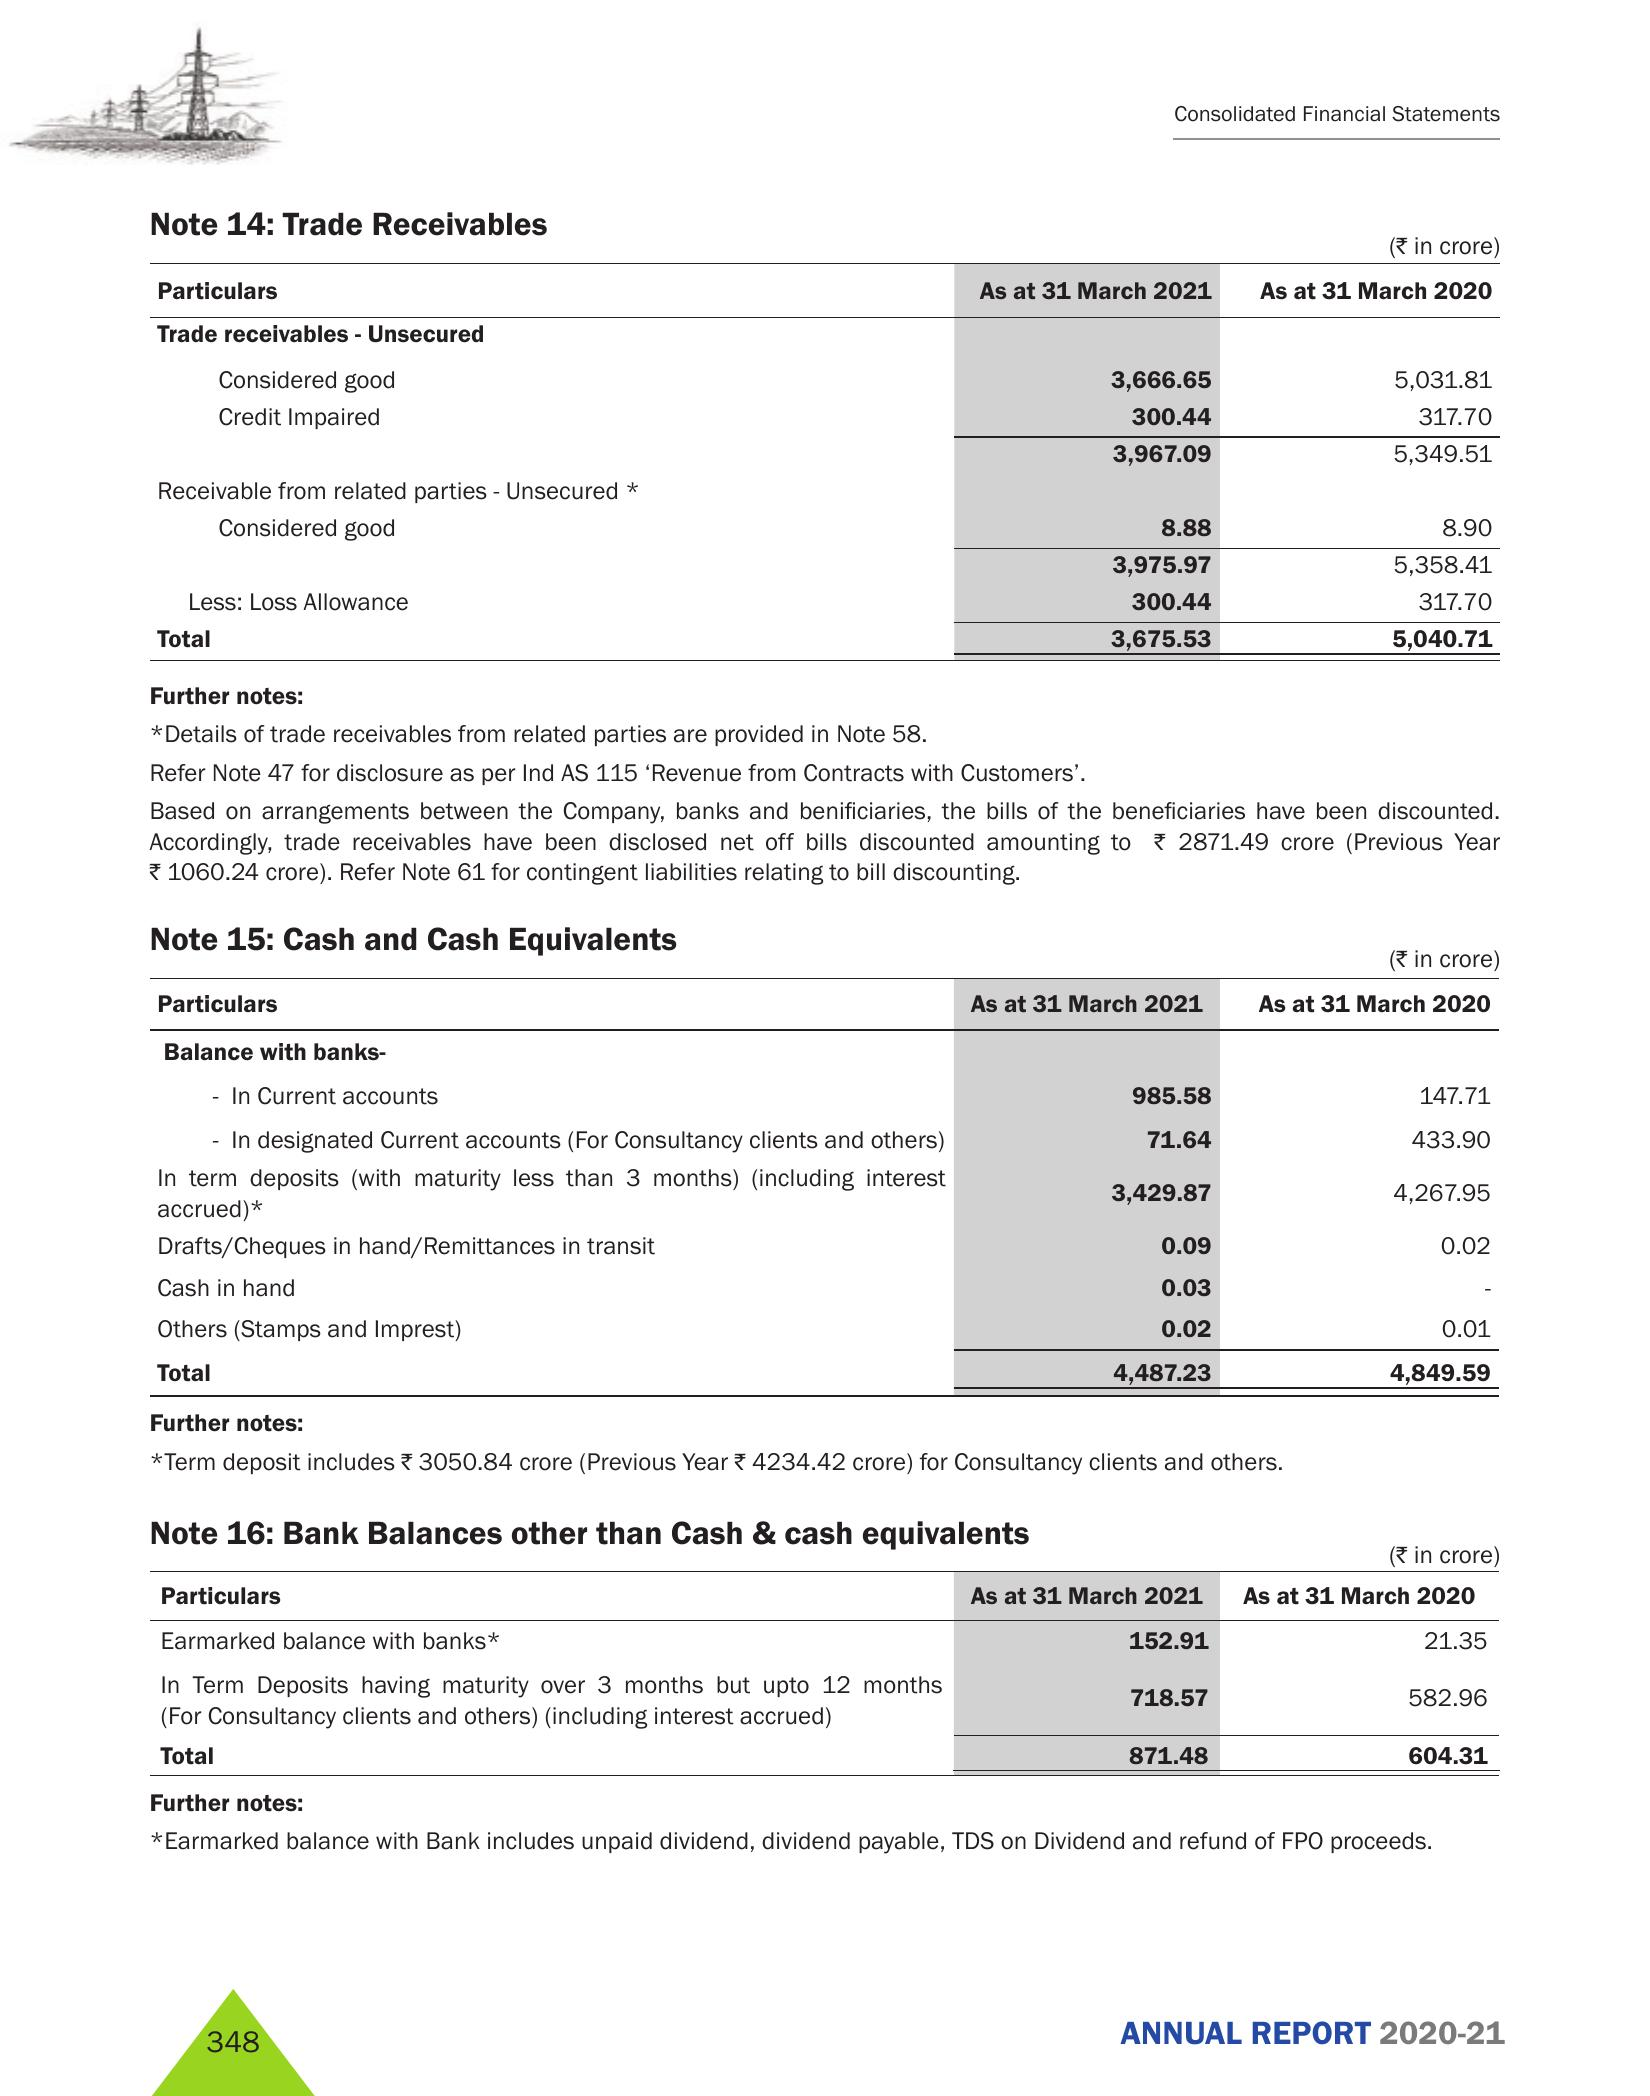Footer: (0, 1962, 1650, 2096)
Header: (0, 0, 1650, 184)
Table: (117, 982, 1524, 1397), (139, 257, 1528, 658), (134, 1569, 1536, 1776)
